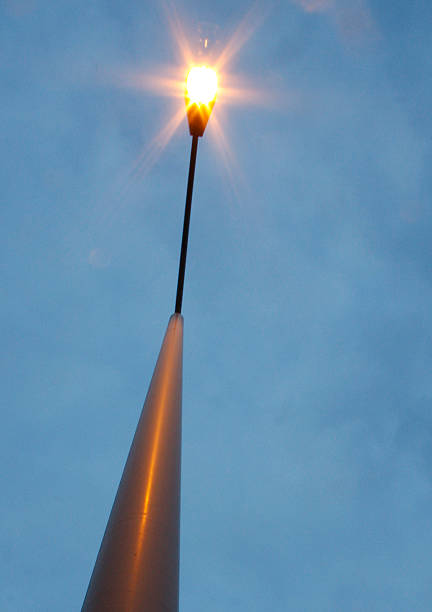light_pole: (83, 311, 187, 612)
